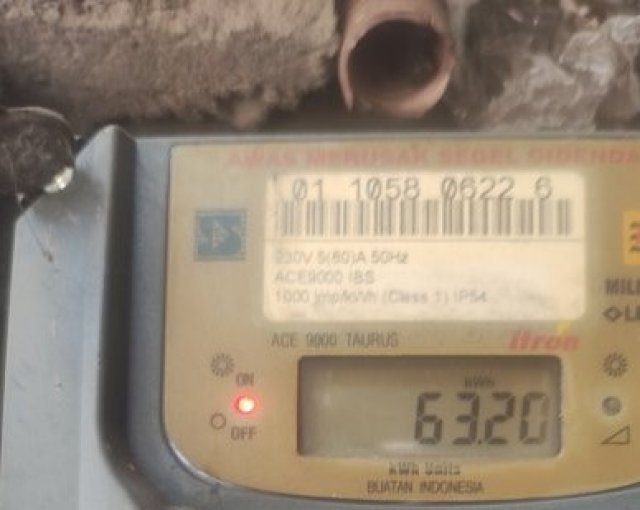box: (299, 358, 561, 457)
